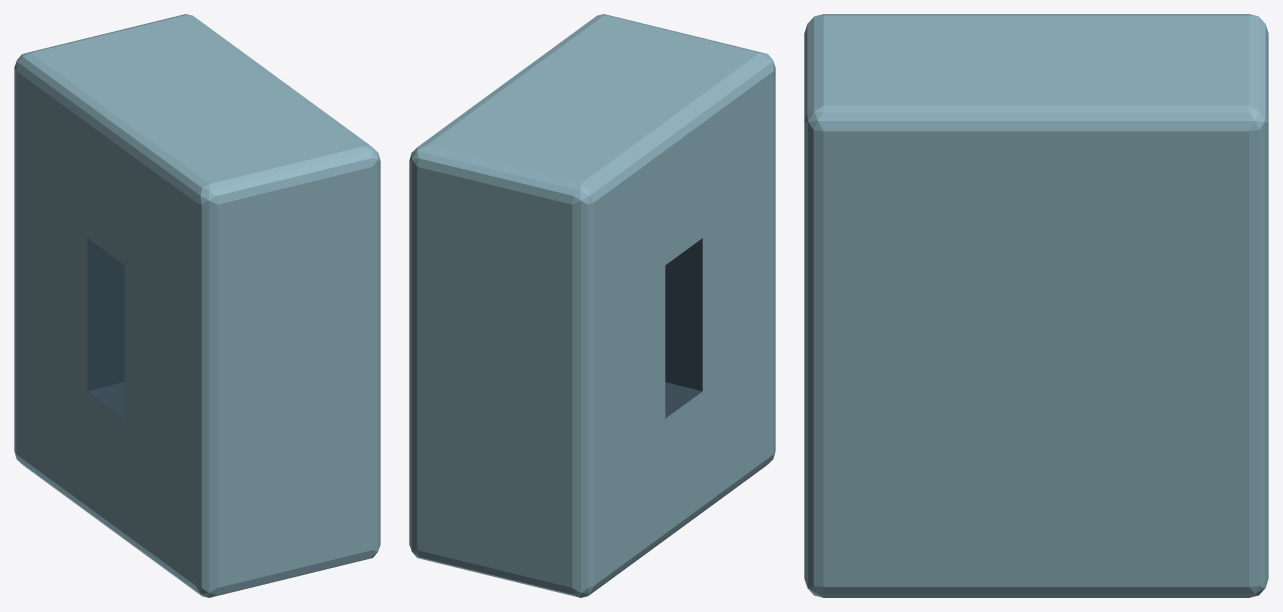
3 renders of one model, left to right at view 1: azimuth 30°, elevation 25°; view 2: azimuth 150°, elevation 25°; view 3: azimuth 270°, elevation 25°, orthographic. The views are drawn at different scales.
Visible parts, largest first — view 1: geometry_0; view 2: geometry_0; view 3: geometry_0.
Boxes of the visible parts, box(x1,y1,x2,y2) form: geometry_0: box(14, 14, 380, 597); geometry_0: box(409, 14, 775, 597); geometry_0: box(804, 14, 1268, 597).
Size of the model in its own units: 0.013 by 0.028 by 0.024.
1 material, 1 textured.
